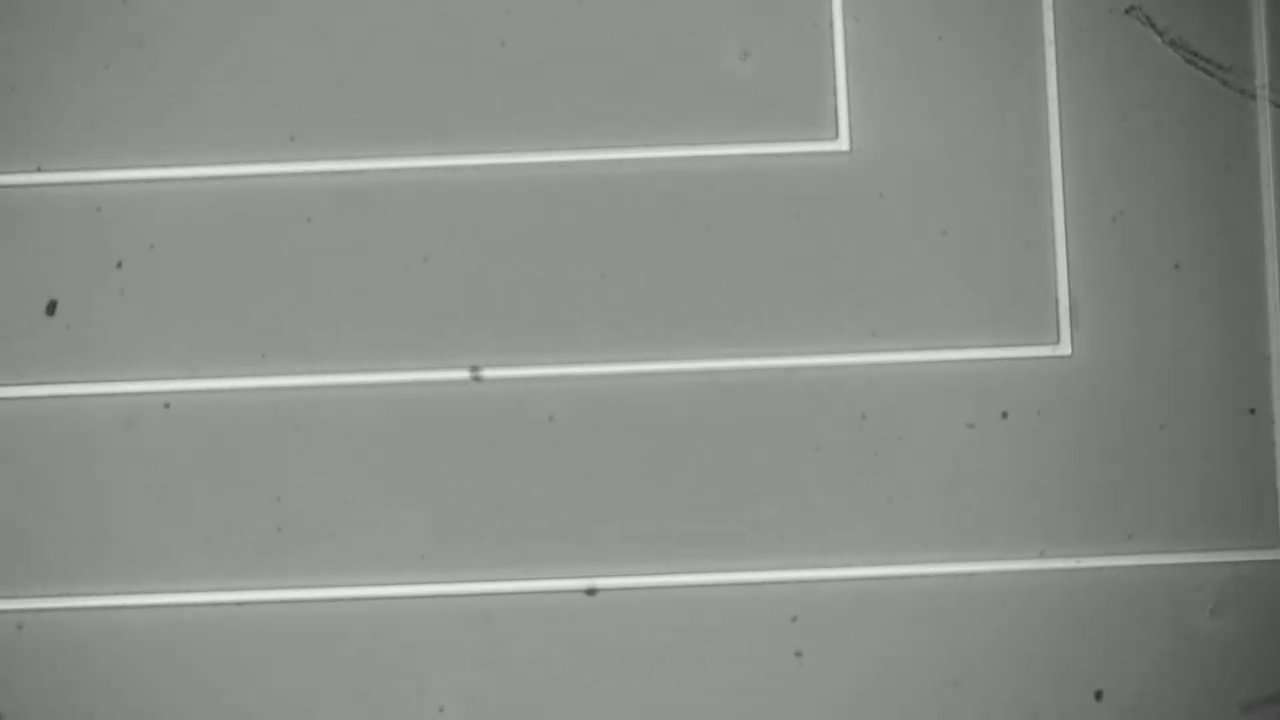scratch: (1105, 1, 1243, 106)
stains_enbedded: (461, 362, 485, 386)
